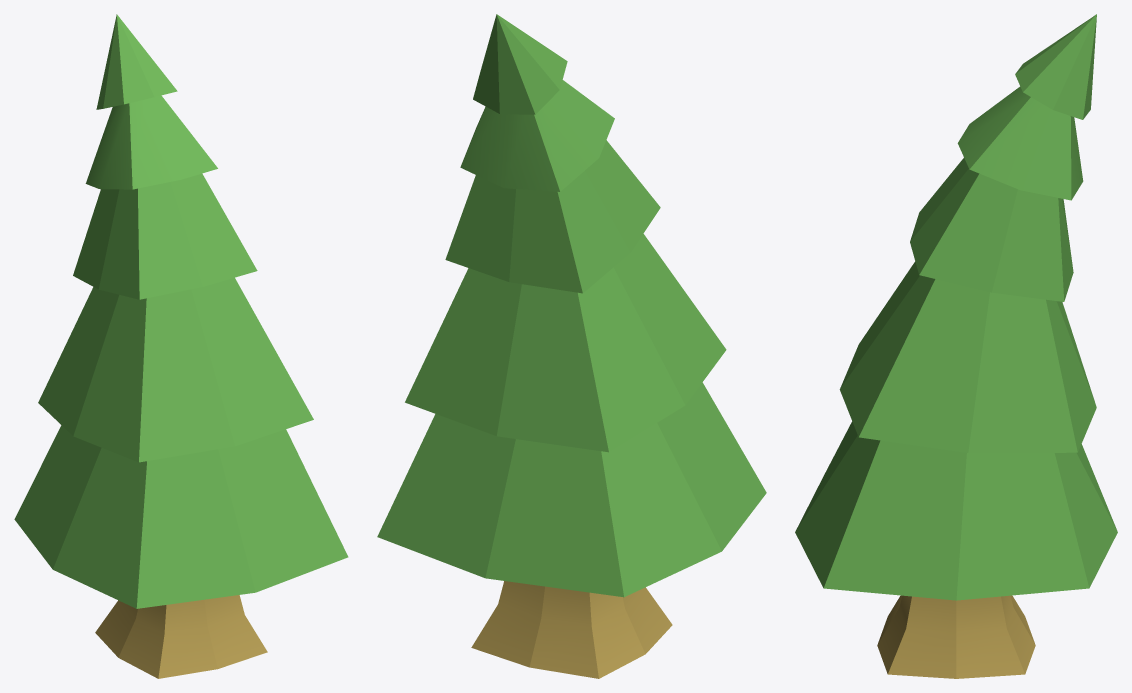
The model's file is tree_4.fbx.
The picture shows the model from 3 angles, left to right: view 1: azimuth 30°, elevation 25°; view 2: azimuth 150°, elevation 25°; view 3: azimuth 270°, elevation 25°; orthographic projection. The views are drawn at different scales.
Parts seen in each view (by area): view 1: Trees:Evergreen_Trees:pCube249; view 2: Trees:Evergreen_Trees:pCube249; view 3: Trees:Evergreen_Trees:pCube249.
Part boxes in pixels (x1=…): Trees:Evergreen_Trees:pCube249: x1=14, y1=14, x2=348, y2=678; Trees:Evergreen_Trees:pCube249: x1=377, y1=14, x2=766, y2=678; Trees:Evergreen_Trees:pCube249: x1=795, y1=14, x2=1117, y2=678.
Size of the model in its own units: 97.47 by 210 by 97.47.
